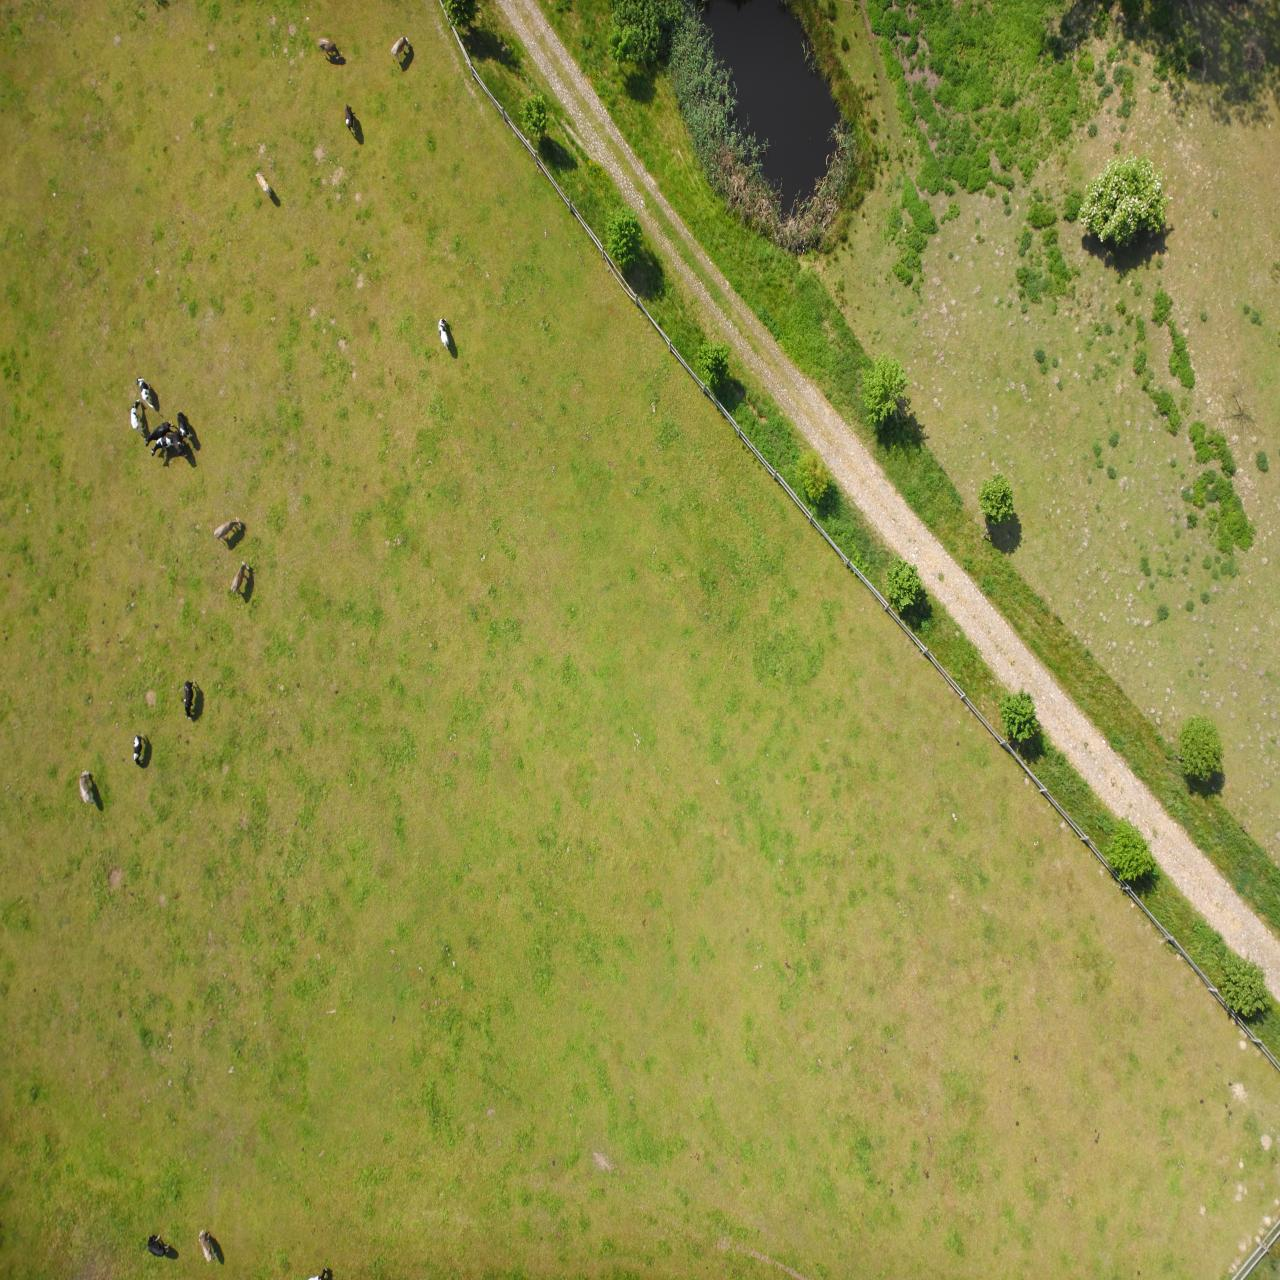cow: (1107, 833, 1135, 858), (1039, 741, 1067, 763), (1063, 16, 1081, 50), (1032, 686, 1049, 720), (938, 1220, 962, 1244), (1125, 872, 1143, 903), (1135, 844, 1149, 881), (1111, 22, 1132, 47), (870, 1217, 888, 1244), (1185, 476, 1200, 509), (1105, 824, 1129, 843), (1088, 842, 1103, 869), (1087, 561, 1097, 599), (922, 1148, 935, 1175), (831, 930, 842, 962), (1136, 515, 1146, 545), (1012, 1088, 1024, 1108)
